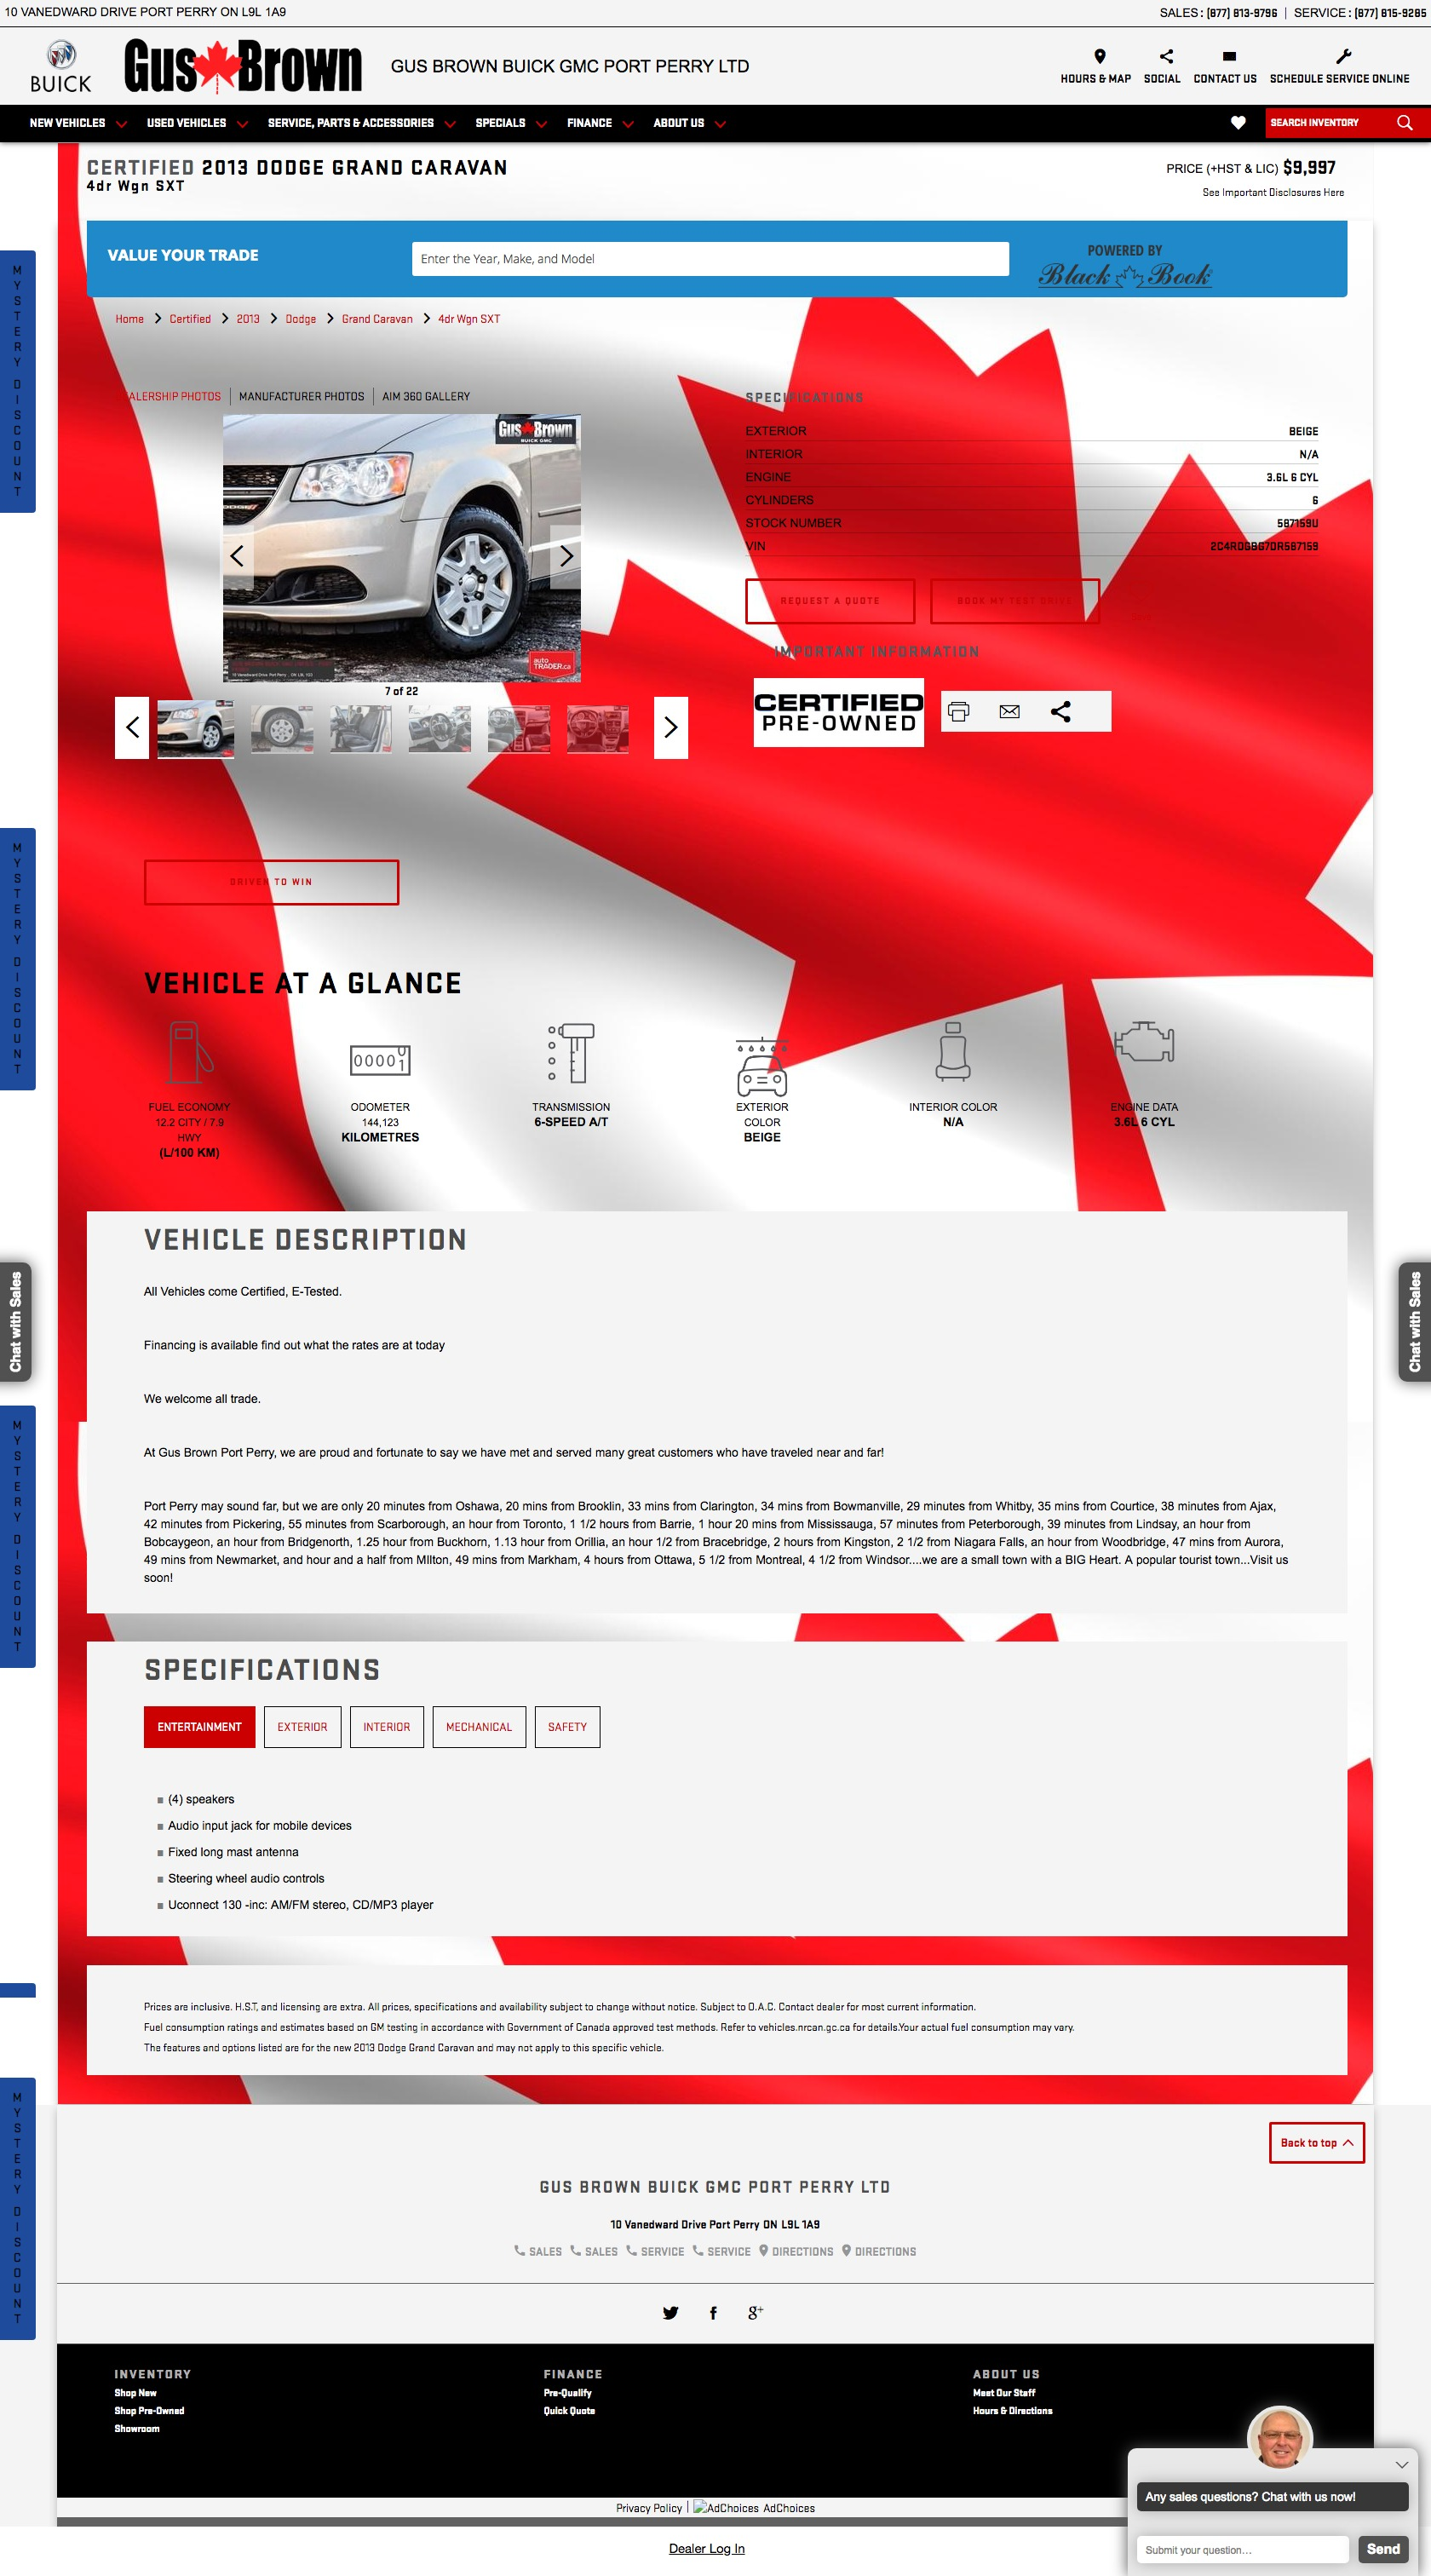car: (664, 717, 678, 738)
